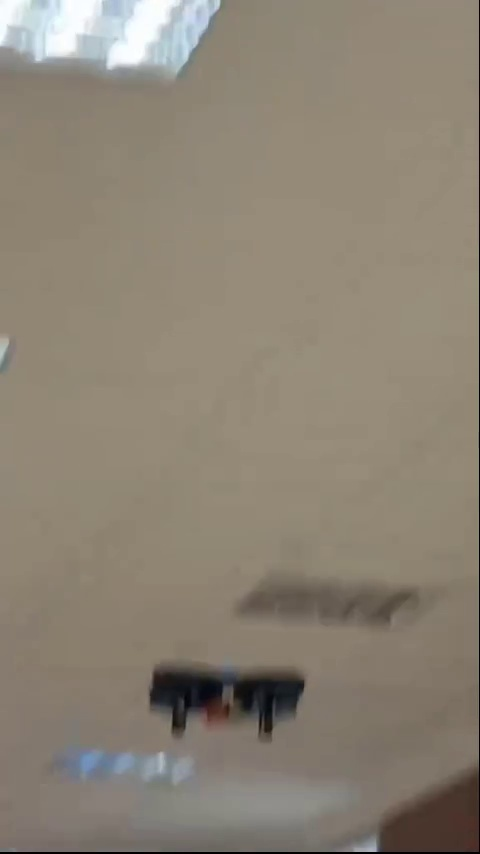drone: (147, 668, 307, 737)
